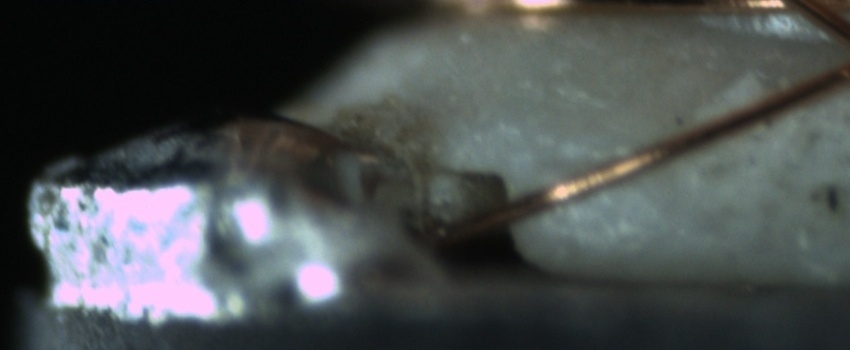CL: (806, 17, 850, 96)
